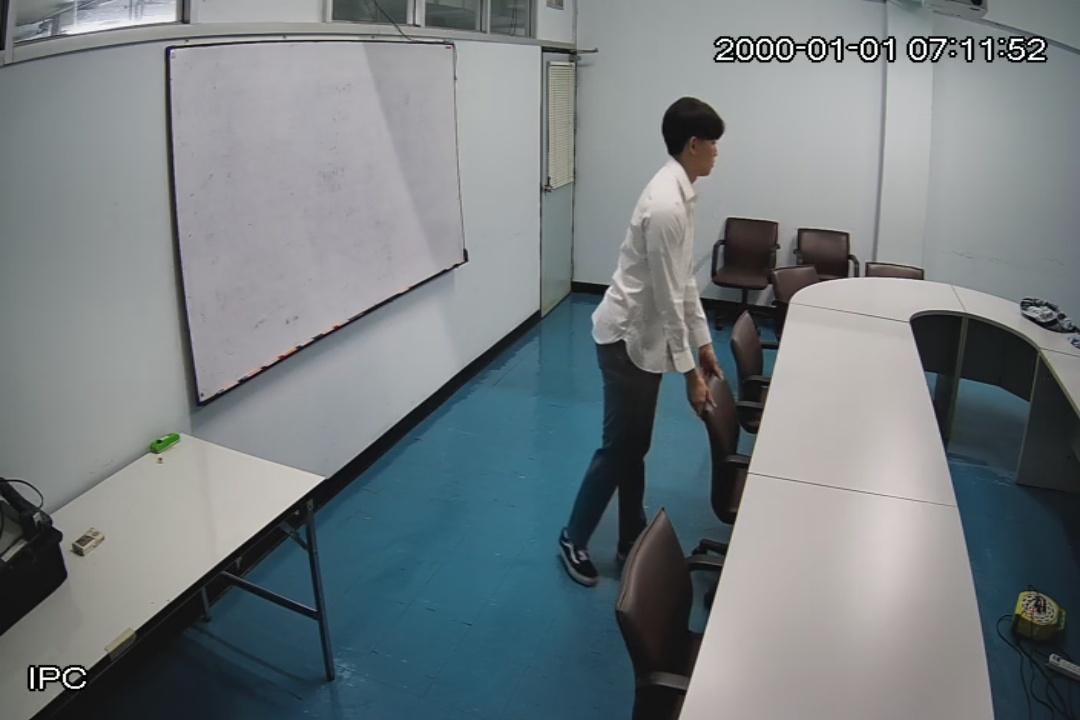normal: (554, 96, 724, 587)
